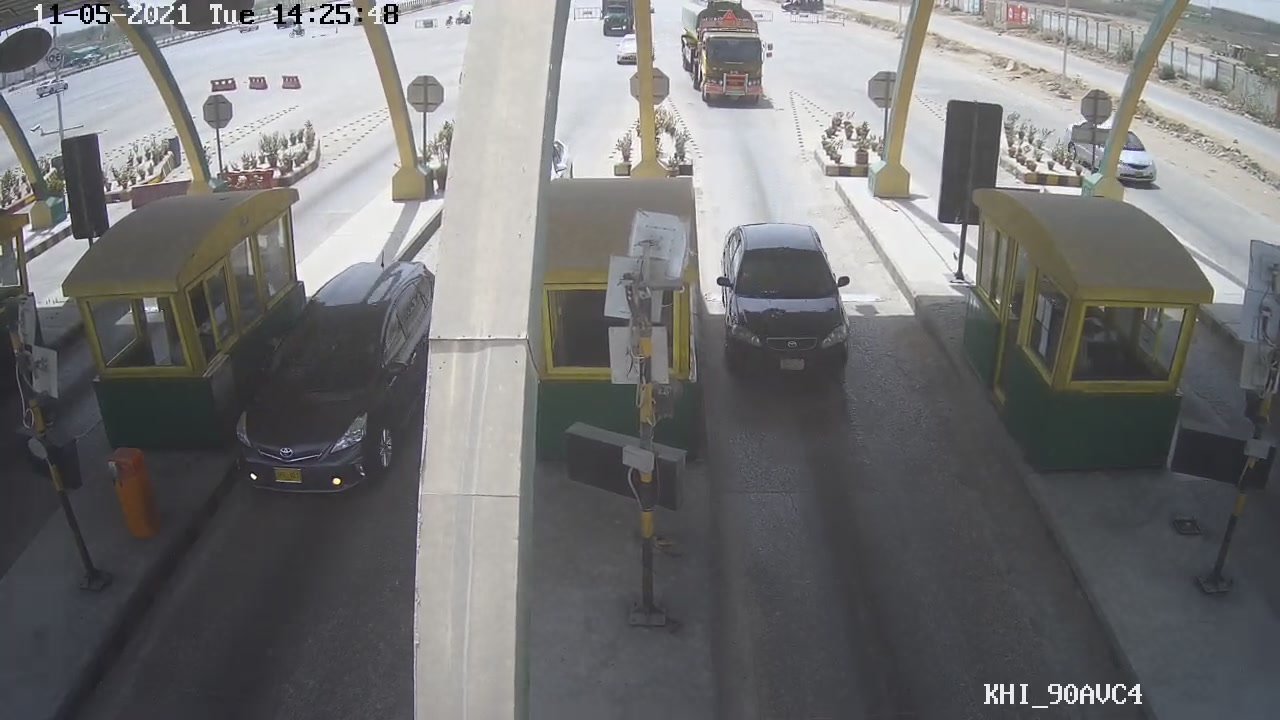F1: (704, 217, 855, 392)
